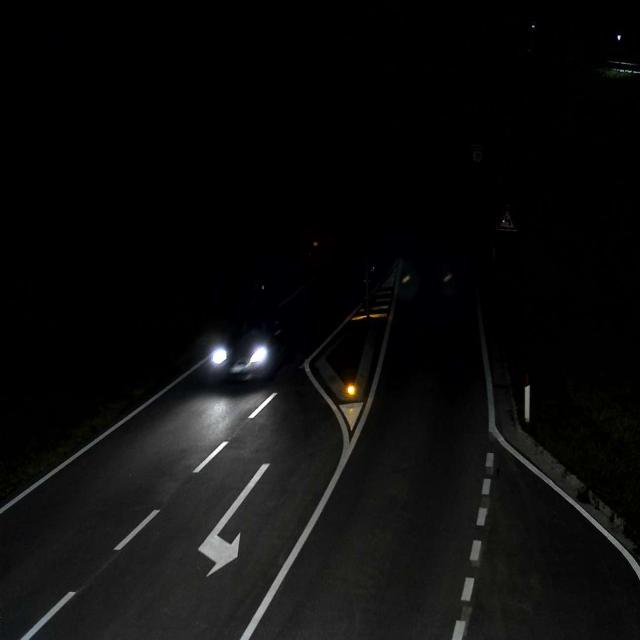car: (208, 317, 286, 384)
